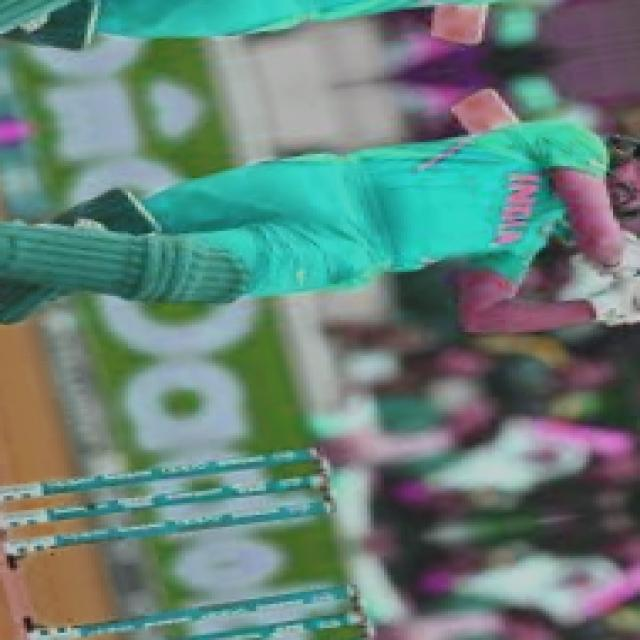toe: (443, 81, 518, 124)
